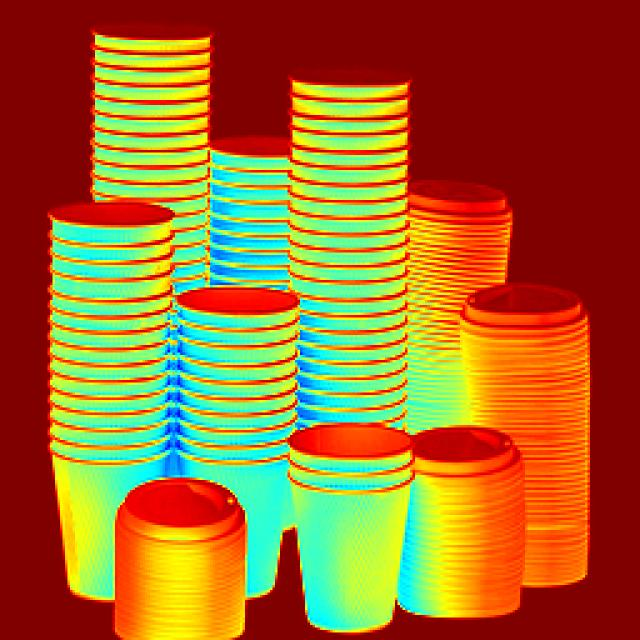Paper Cups: (282, 82, 406, 430), (446, 291, 592, 569), (49, 220, 164, 521), (94, 13, 215, 241), (291, 424, 408, 637), (407, 430, 520, 634), (180, 284, 282, 504), (123, 482, 251, 632), (407, 188, 481, 408), (202, 128, 298, 262)
